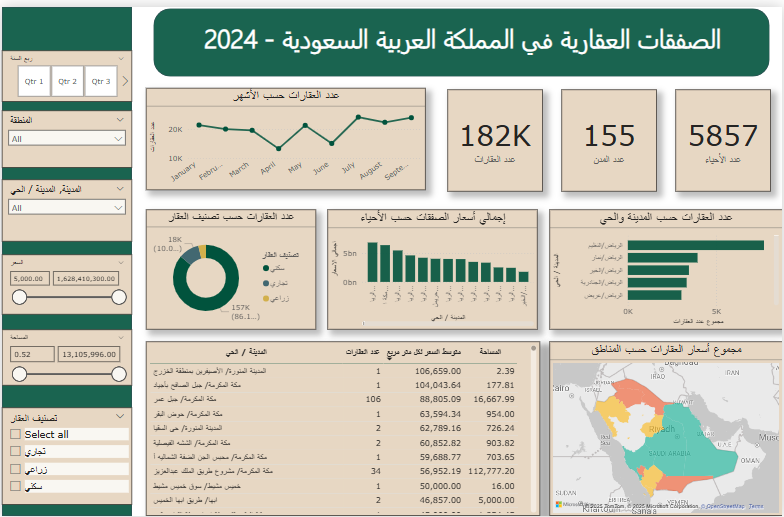

Layout of this report page (visuals, bound fields, positions):
{"tool":"powerbi","page":{"name":"الصفقات العقارية 2024","canvas":[1300,850],"ordinal":0},"visuals":[{"type":"shape","box":[0,0,216.7,850],"z":0},{"type":"shape","box":[253.3,1.7,1026.7,113.3],"z":1000},{"type":"card","fields":{"Values":["Count(ALL-Transactions sale for real estate-2024.المدينة)"]},"box":[976.7,136.7,143.3,170],"z":2000},{"type":"lineChart","title":"عدد العقارات حسب الأشهر ","fields":{"Category":["ALL-Transactions sale for real estate-2024.تاريخ الصفقة ميلادي.Variation.Date Hierarchy.Month"],"Y":["Sum(ALL-Transactions sale for real estate-2024.عدد العقارات)"]},"box":[240,136,466,170],"z":3000},{"type":"card","fields":{"Values":["Count(ALL-Transactions sale for real estate-2024.المدينة / الحي)"]},"box":[1140,136.7,140,170],"z":4000},{"type":"card","fields":{"Values":["Measures&Claculations.مجموع عدد العقارات"]},"box":[718.3,136.7,235,170],"z":5000},{"type":"filledMap","title":"مجموع أسعار العقارات حسب المناطق","fields":{"Category":["ALL-Transactions sale for real estate-2024.المنطقة"]},"box":[911.7,558.3,388.3,291.7],"z":6000},{"type":"columnChart","title":"إجمالي أسعار الصفقات حسب الأحياء","fields":{"Category":["ALL-Transactions sale for real estate-2024.المدينة / الحي"],"Y":["Measures&Claculations.اجمالي المبيعات"]},"box":[543.3,338.3,350,200],"z":7000},{"type":"slicer","fields":{"Values":["ALL-Transactions sale for real estate-2024.المنطقة"]},"box":[0,173.3,216.7,95],"z":8000},{"type":"slicer","fields":{"Values":["ALL-Transactions sale for real estate-2024.المدينة","ALL-Transactions sale for real estate-2024.المدينة / الحي"]},"box":[0,286.7,216.7,103.3],"z":9000},{"type":"slicer","fields":{"Values":["ALL-Transactions sale for real estate-2024.تصنيف العقار"]},"box":[0,666.7,216.7,161.7],"z":10000},{"type":"slicer","fields":{"Values":["ALL-Transactions sale for real estate-2024.تاريخ الصفقة ميلادي.Variation.Date Hierarchy.Quarter"]},"box":[0,73.3,216.7,85],"z":11000},{"type":"clusteredBarChart","title":"عدد العقارات حسب المدينة والحي","fields":{"Category":["ALL-Transactions sale for real estate-2024.المدينة / الحي"],"Y":["Sum(ALL-Transactions sale for real estate-2024.عدد العقارات)"]},"box":[911.7,338.3,388.3,200],"z":12000},{"type":"donutChart","title":"عدد العقارات حسب تصنيف العقار","fields":{"Y":["Measures&Claculations.مجموع عدد العقارات"],"Category":["ALL-Transactions sale for real estate-2024.تصنيف العقار"]},"box":[240,338.3,283.3,200],"z":13000},{"type":"textbox","box":[286.7,18.3,960,80],"z":14000},{"type":"tableEx","fields":{"Values":["ALL-Transactions sale for real estate-2024.المدينة / الحي","Sum(ALL-Transactions sale for real estate-2024.عدد العقارات)","Measures&Claculations.متوسط السعر لكل متر مربع","Sum(ALL-Transactions sale for real estate-2024.المساحة)"]},"box":[240,558.3,656.7,291.7],"z":15000},{"type":"slicer","fields":{"Values":["ALL-Transactions sale for real estate-2024.السعر"]},"box":[0,413.3,216.7,100],"z":16000},{"type":"slicer","fields":{"Values":["ALL-Transactions sale for real estate-2024.المساحة"]},"box":[0,538.3,216.7,93.3],"z":17000}]}

Visuals, with their boxes in screenshot pixels (x1, y1, x2, y2):
shape: bbox(0, 6, 129, 512)
shape: bbox(151, 7, 761, 75)
card - Count(ALL-Transactions sale for real estate-2024.المدينة): bbox(581, 87, 666, 189)
"عدد العقارات حسب الأشهر " lineChart: bbox(143, 87, 420, 188)
card - Count(ALL-Transactions sale for real estate-2024.المدينة / الحي): bbox(678, 87, 761, 189)
card - Measures&Claculations.مجموع عدد العقارات: bbox(427, 87, 567, 189)
"مجموع أسعار العقارات حسب المناطق" filledMap: bbox(542, 338, 773, 512)
"إجمالي أسعار الصفقات حسب الأحياء" columnChart: bbox(323, 207, 531, 326)
slicer - ALL-Transactions sale for real estate-2024.المنطقة: bbox(0, 109, 129, 166)
slicer - ALL-Transactions sale for real estate-2024.المدينة x ALL-Transactions sale for real estate-2024.المدينة / الحي: bbox(0, 177, 129, 238)
slicer - ALL-Transactions sale for real estate-2024.تصنيف العقار: bbox(0, 403, 129, 499)
slicer - ALL-Transactions sale for real estate-2024.تاريخ الصفقة ميلادي.Variation.Date Hierarchy.Quarter: bbox(0, 50, 129, 100)
"عدد العقارات حسب المدينة والحي" clusteredBarChart: bbox(542, 207, 773, 326)
"عدد العقارات حسب تصنيف العقار" donutChart: bbox(143, 207, 311, 326)
textbox: bbox(171, 17, 741, 65)
tableEx - ALL-Transactions sale for real estate-2024.المدينة / الحي x Sum(ALL-Transactions sale for real estate-2024.عدد العقارات): bbox(143, 338, 533, 512)
slicer - ALL-Transactions sale for real estate-2024.السعر: bbox(0, 252, 129, 311)
slicer - ALL-Transactions sale for real estate-2024.المساحة: bbox(0, 326, 129, 382)
